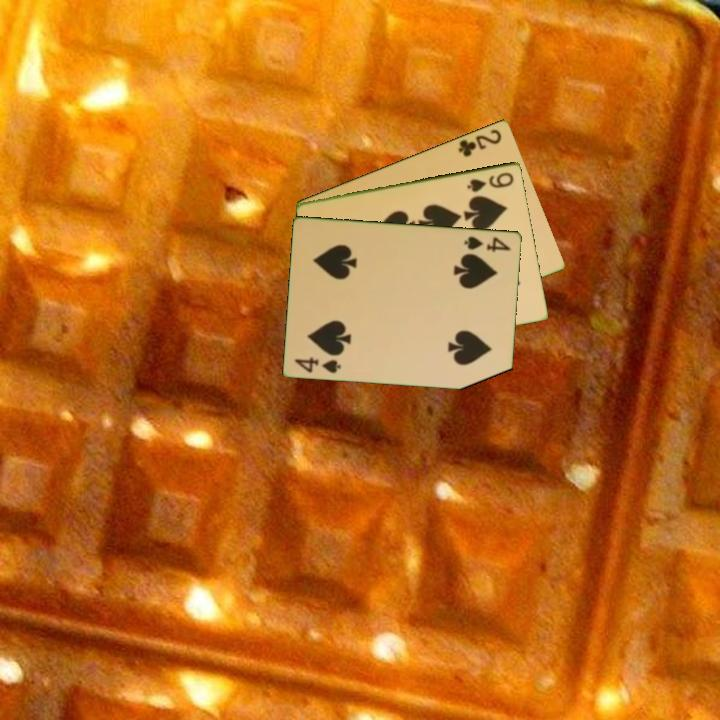2c: (455, 125, 505, 159)
4s: (461, 232, 514, 255), (291, 353, 344, 375)
9s: (464, 168, 517, 195)
